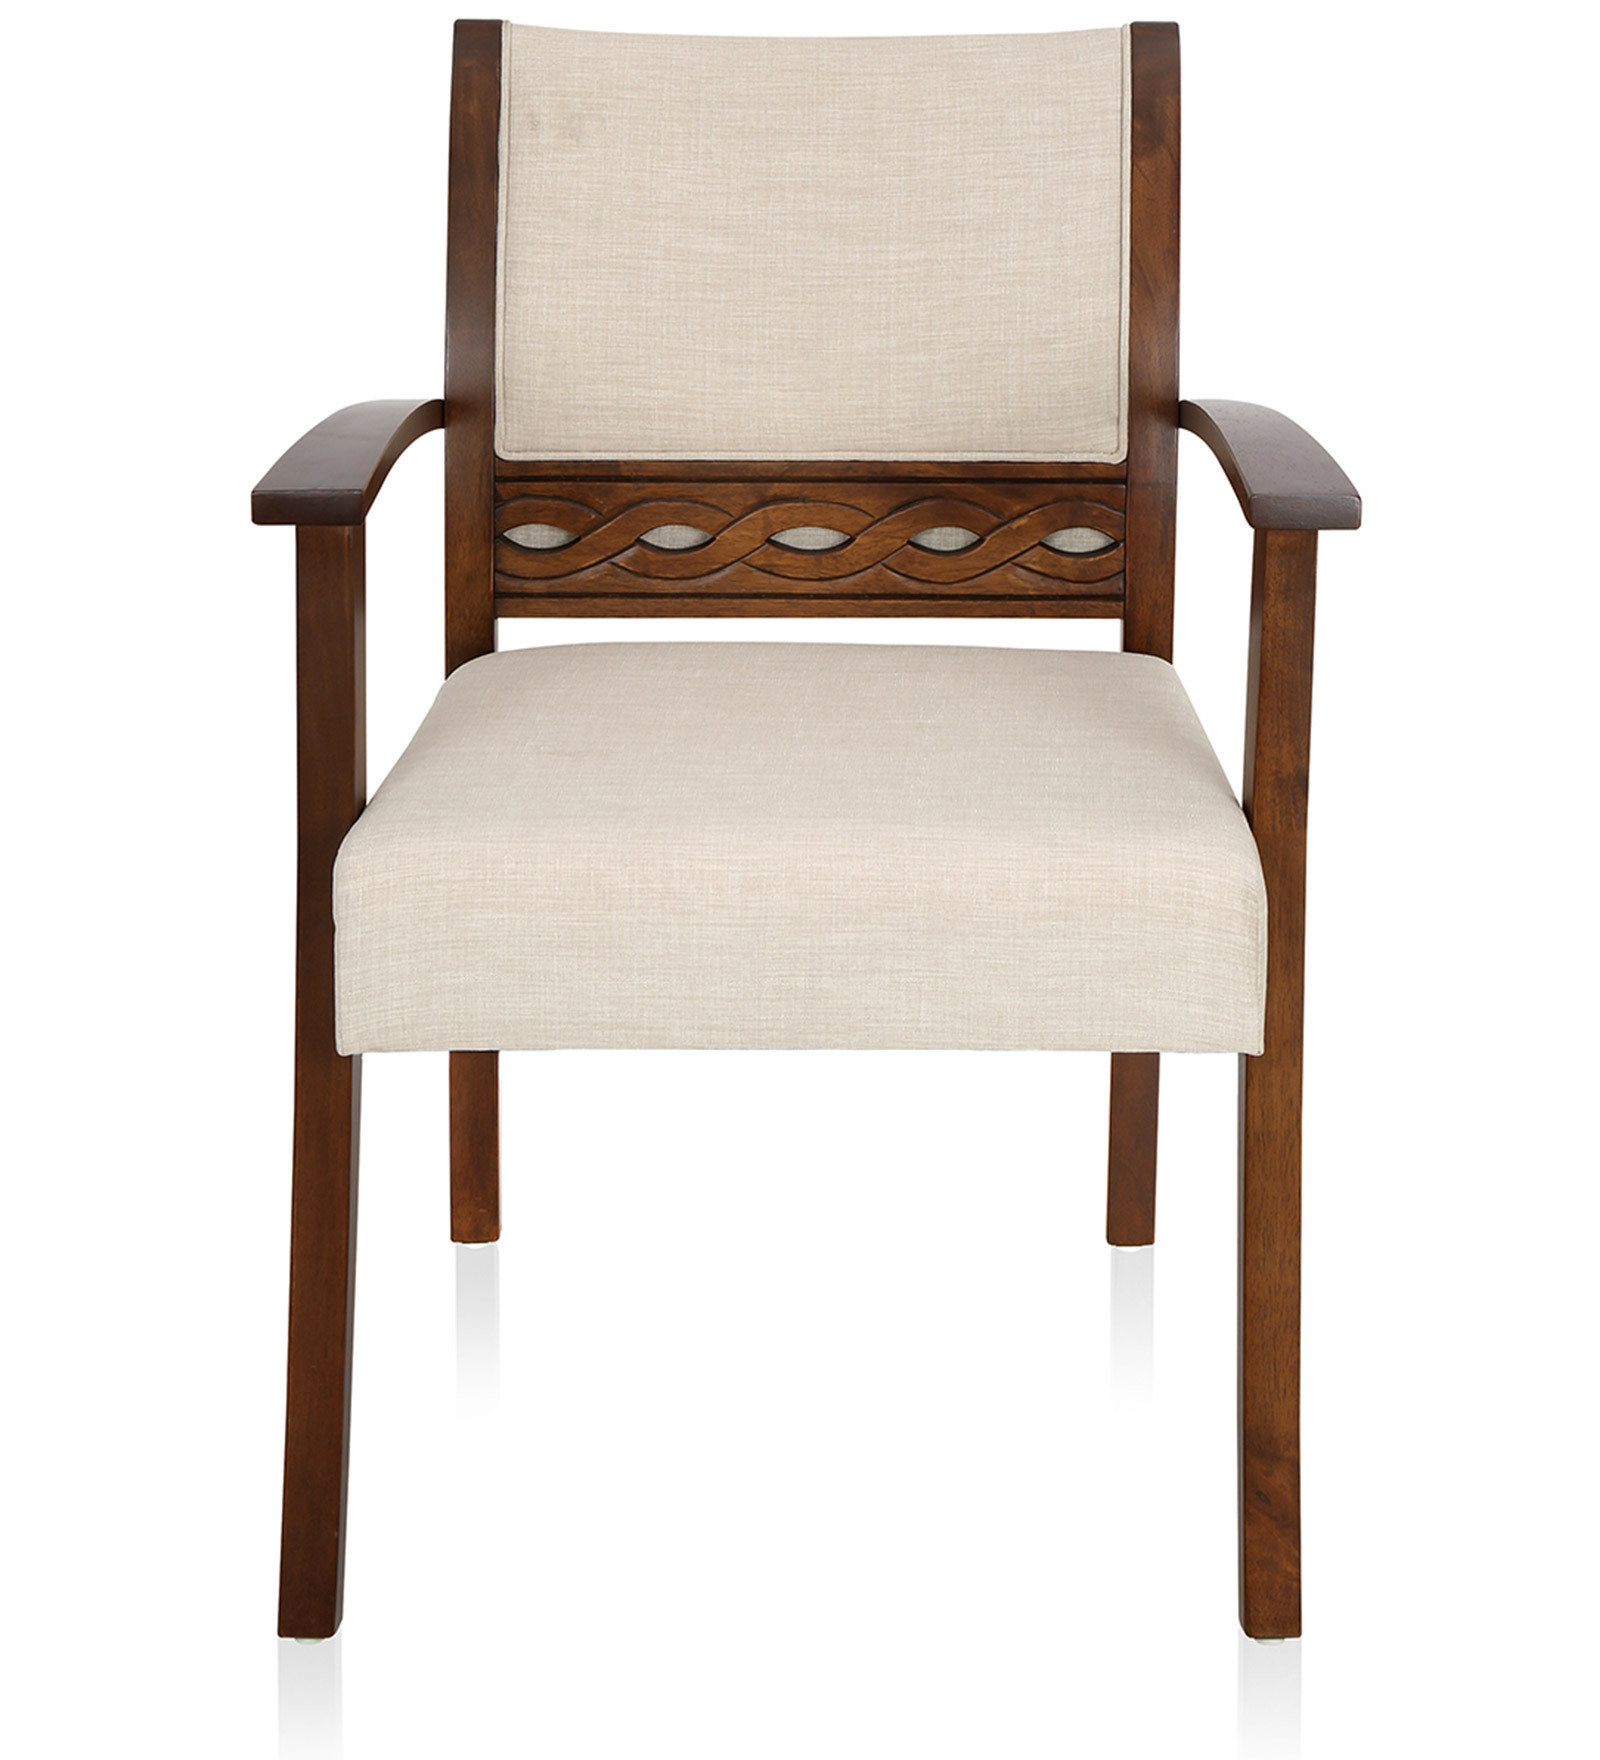Zinnia Arm Chair in Beige Colour by @ Home: (273, 18, 1436, 1691)
